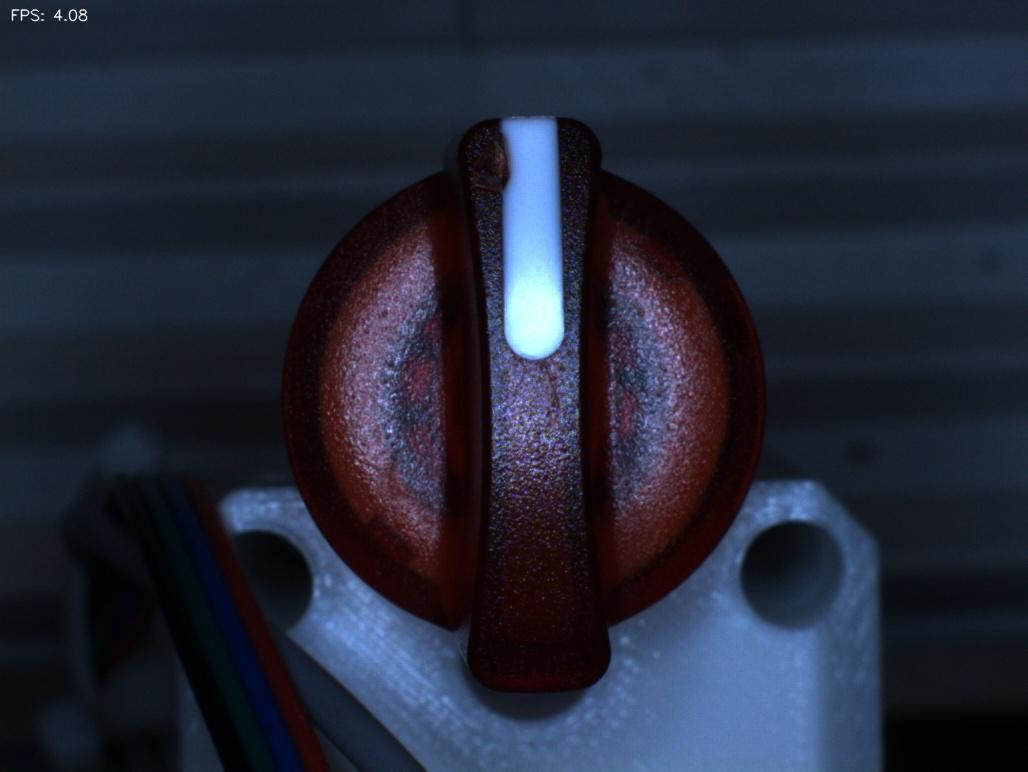Choc: (451, 117, 537, 209)
